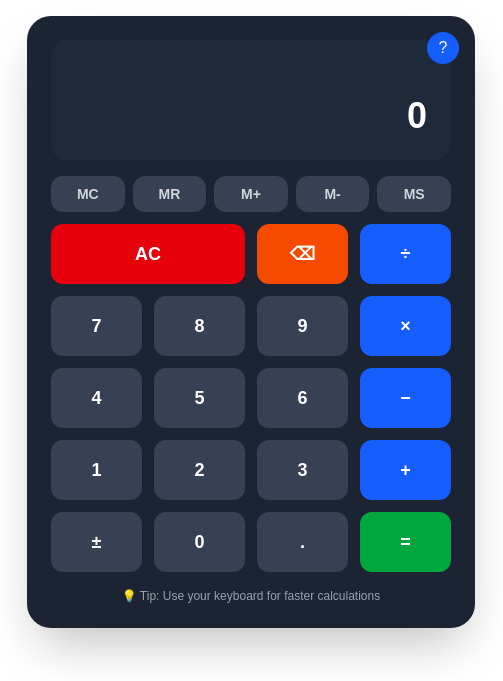
Test: Calculator Component › Number Input › should handle decimal point correctly
The image size is (503, 681).
Click the button "3".
click(302, 470)  # box [257,440,348,500]
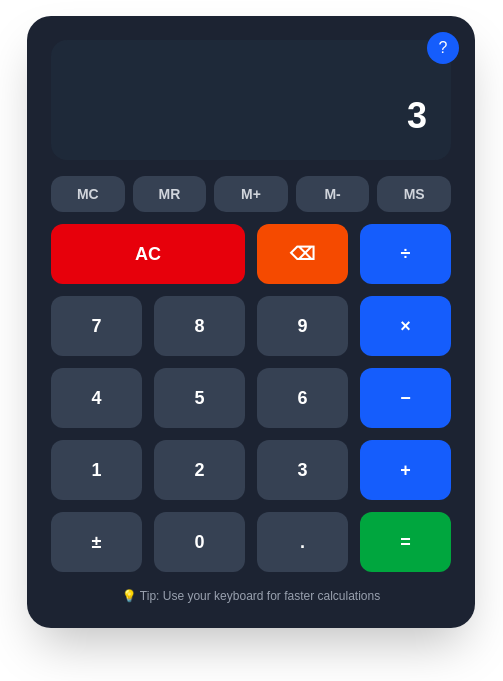
Click the button named "Decimal".
click(302, 542)  # box [257,512,348,572]
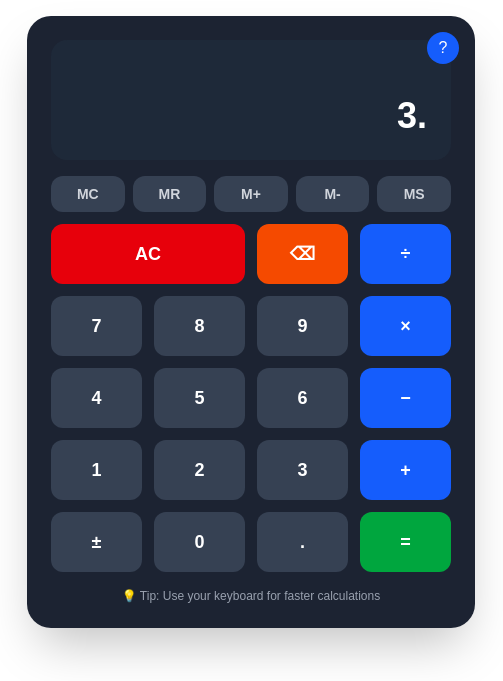
Click the button "1".
click(96, 470)  # box [51,440,142,500]
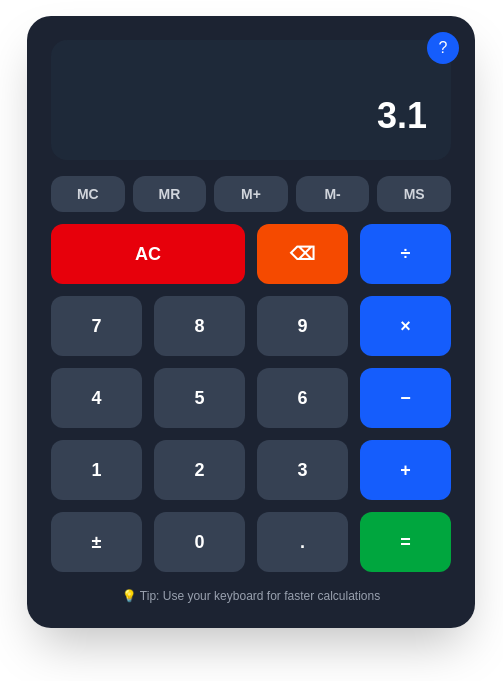
Click the button "4".
click(96, 398)  # box [51,368,142,428]
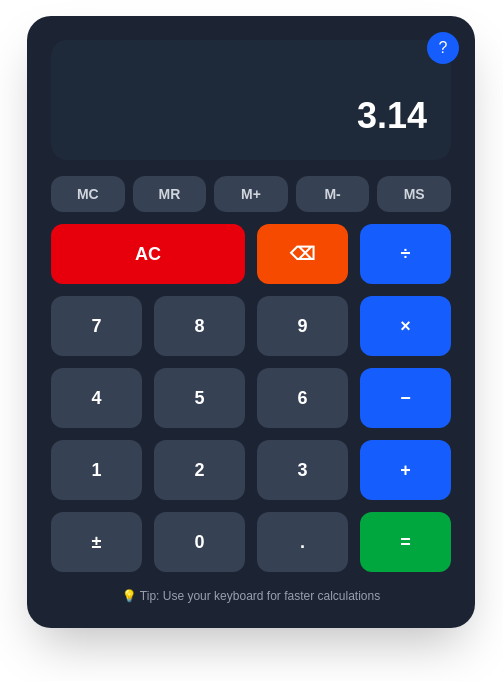
Expected: the text "3.14" is shown, [357,95,427,136]
